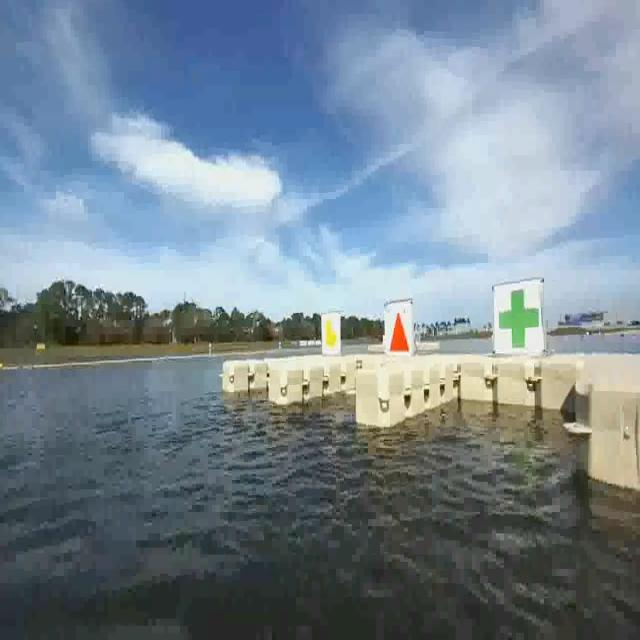blue-cross: (492, 277, 540, 350)
red-dot: (384, 305, 412, 351)
yellow-duck: (324, 318, 337, 347)
